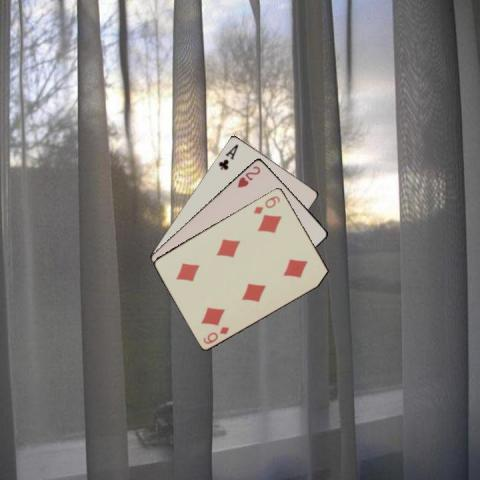2h: (234, 162, 261, 188)
6d: (200, 324, 231, 346), (251, 193, 281, 215)
Ac: (215, 141, 240, 171)
